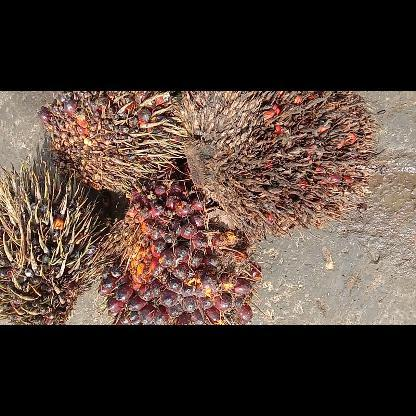Kurang masak: (0, 162, 104, 324)
TBS abnormal: (178, 91, 378, 237), (38, 91, 188, 201)
Terlalu masak: (96, 180, 260, 324)
